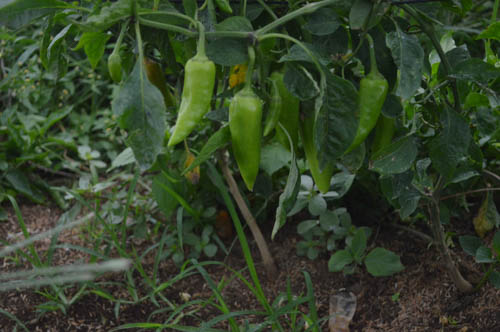ChiliPepper: (166, 45, 217, 157), (342, 59, 389, 162), (222, 87, 265, 194), (301, 106, 336, 199), (268, 66, 298, 153), (138, 53, 176, 108), (106, 51, 136, 87)
